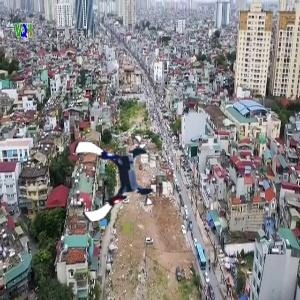drone: (72, 137, 158, 223)
